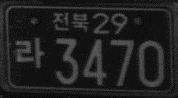0: (137, 38, 164, 88)
2: (92, 11, 110, 35)
3: (54, 36, 80, 85)
4: (82, 38, 107, 85)
7: (109, 39, 134, 87)
9: (110, 12, 128, 34)
라: (14, 36, 44, 69)
전북_O: (52, 11, 88, 33)
